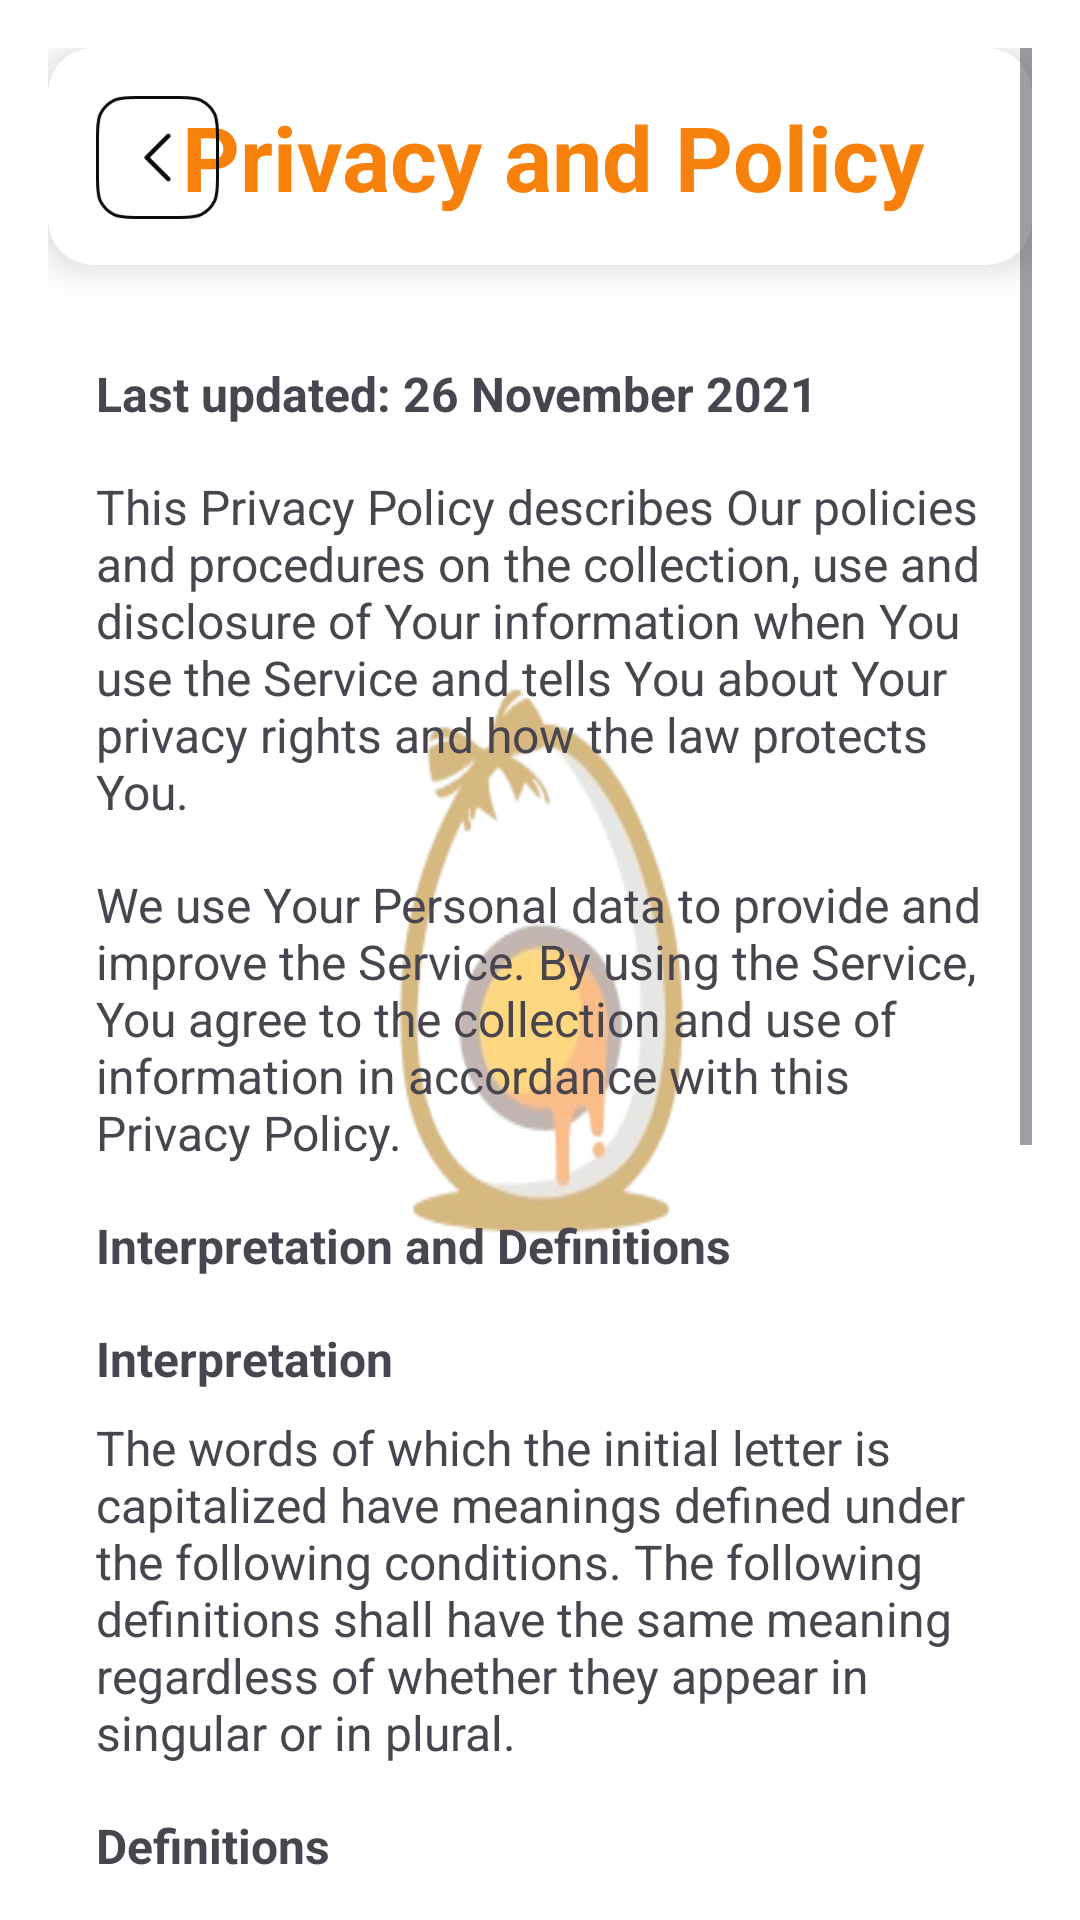

Icons on this 1080px x 1920px Android screen, each with the point to tap as (x=x, y=y):
Back Arrow: (x=157, y=157)
